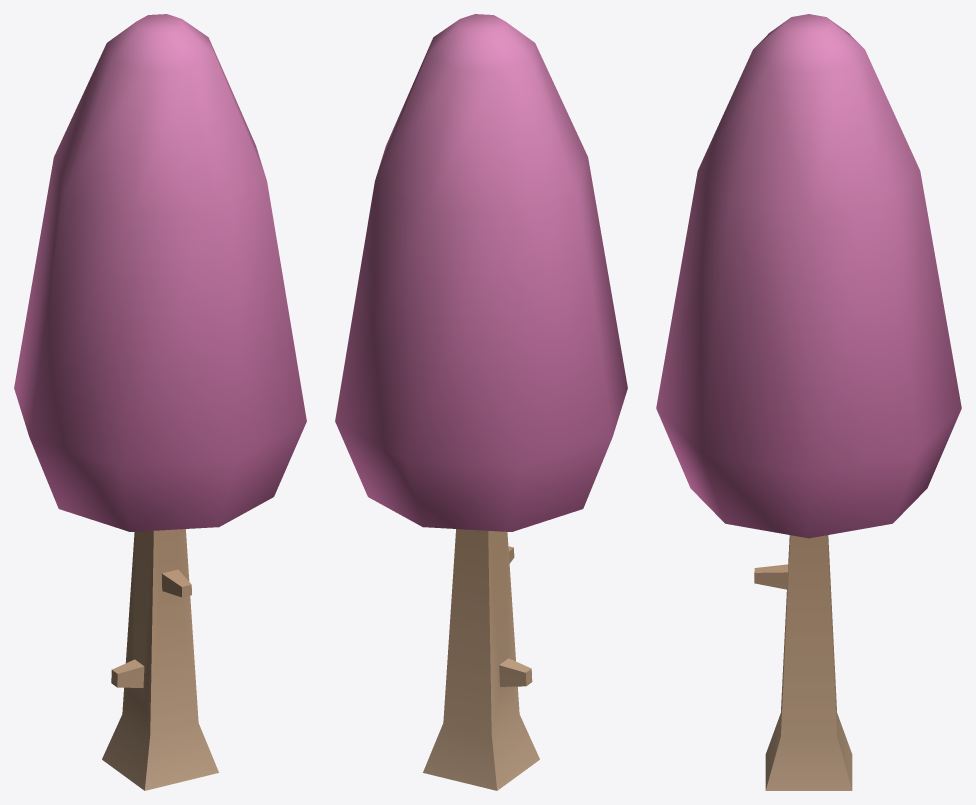
Rendered from tree_blossom_tall.obj.
3 renders of one model, left to right at view 1: azimuth 30°, elevation 25°; view 2: azimuth 150°, elevation 25°; view 3: azimuth 270°, elevation 25°, orthographic.
Parts seen in each view (by area): view 1: tree-high-round; view 2: tree-high-round; view 3: tree-high-round.
Boxes of the visible parts, box(x1,y1,x2,y2) form: tree-high-round: box(14, 14, 306, 790); tree-high-round: box(335, 14, 627, 790); tree-high-round: box(656, 14, 961, 790).
Size of the model in its own units: 7.2 by 19.45 by 7.2.
1 material, 1 textured.
